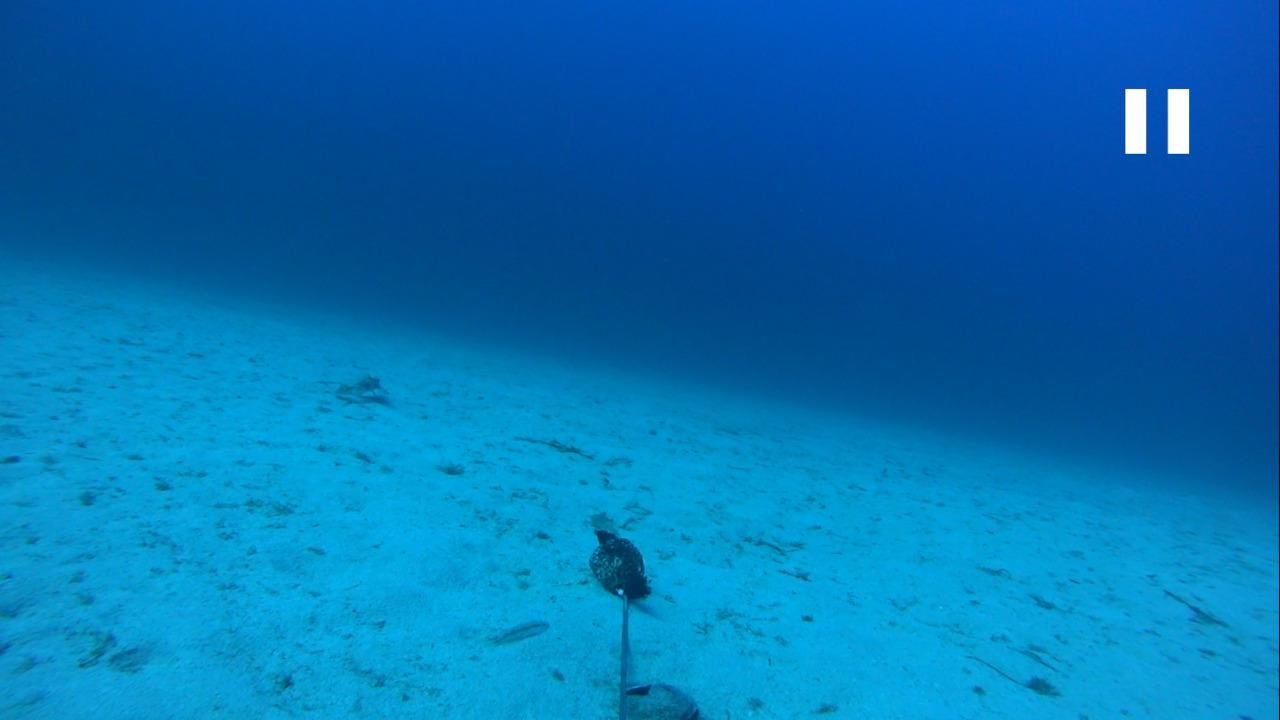dactylopterus: (308, 365, 391, 406)
